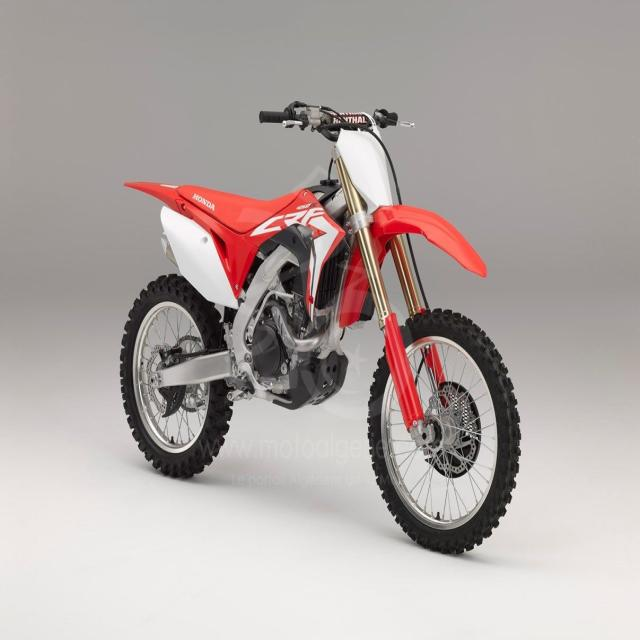Motorcycle: (120, 101, 520, 554)
